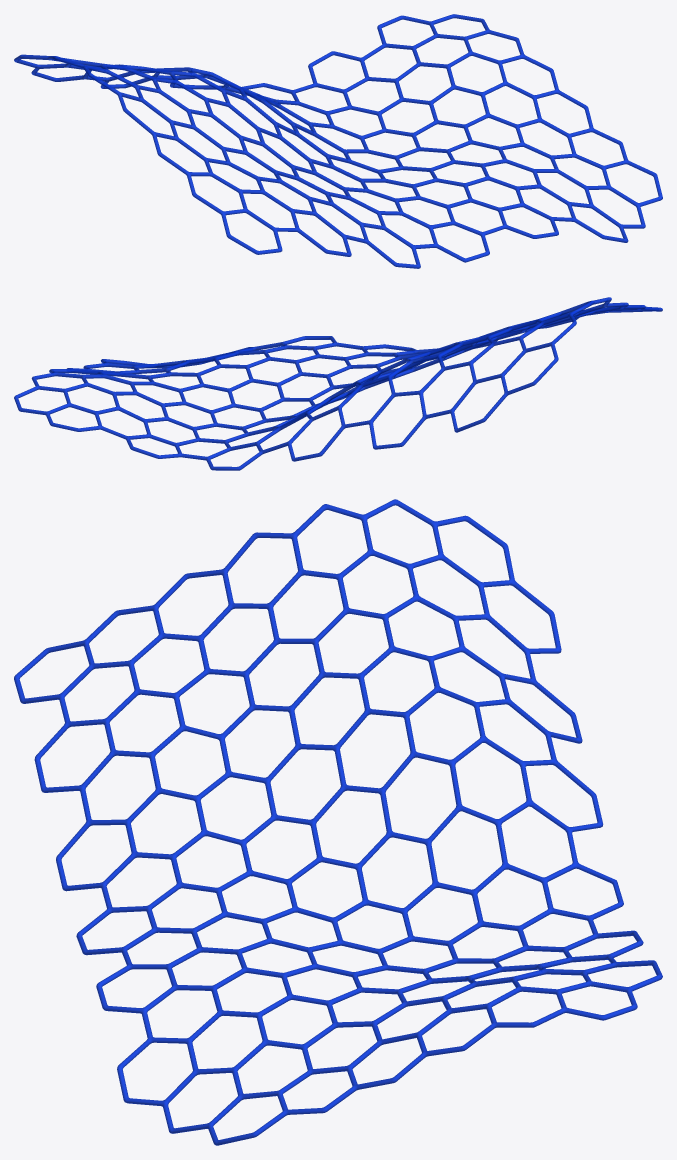
Rendered from Graphene.glb.
3 views of the same model, one above another, from view 1: azimuth 30°, elevation 25°; view 2: azimuth 150°, elevation 25°; view 3: azimuth 270°, elevation 25° (orthographic). The views are drawn at different scales.
Parts seen in each view (by area): view 1: Graphene sheet; view 2: Graphene sheet; view 3: Graphene sheet.
Boxes of the visible parts, bbox=[...] form: Graphene sheet: bbox=[14, 14, 662, 268]; Graphene sheet: bbox=[14, 297, 662, 470]; Graphene sheet: bbox=[14, 499, 662, 1145].
Bounding box in the file's own units: 5.07 × 2.03 × 3.86.
